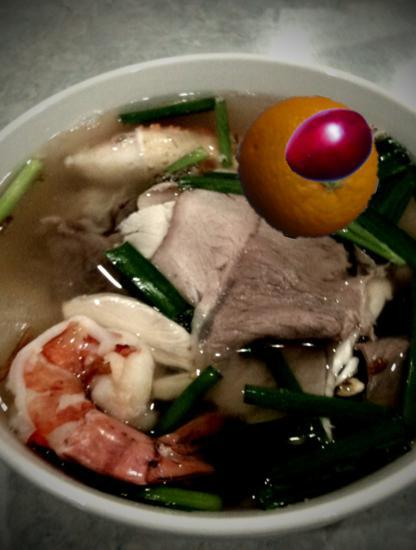Orange: (235, 95, 381, 241)
Tamarillo: (284, 96, 382, 194)
